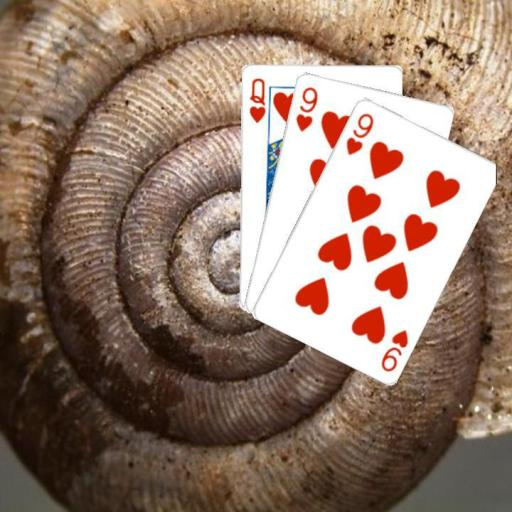9H: (342, 109, 376, 156), (378, 326, 410, 373), (293, 83, 320, 133)
QH: (245, 74, 267, 124)
